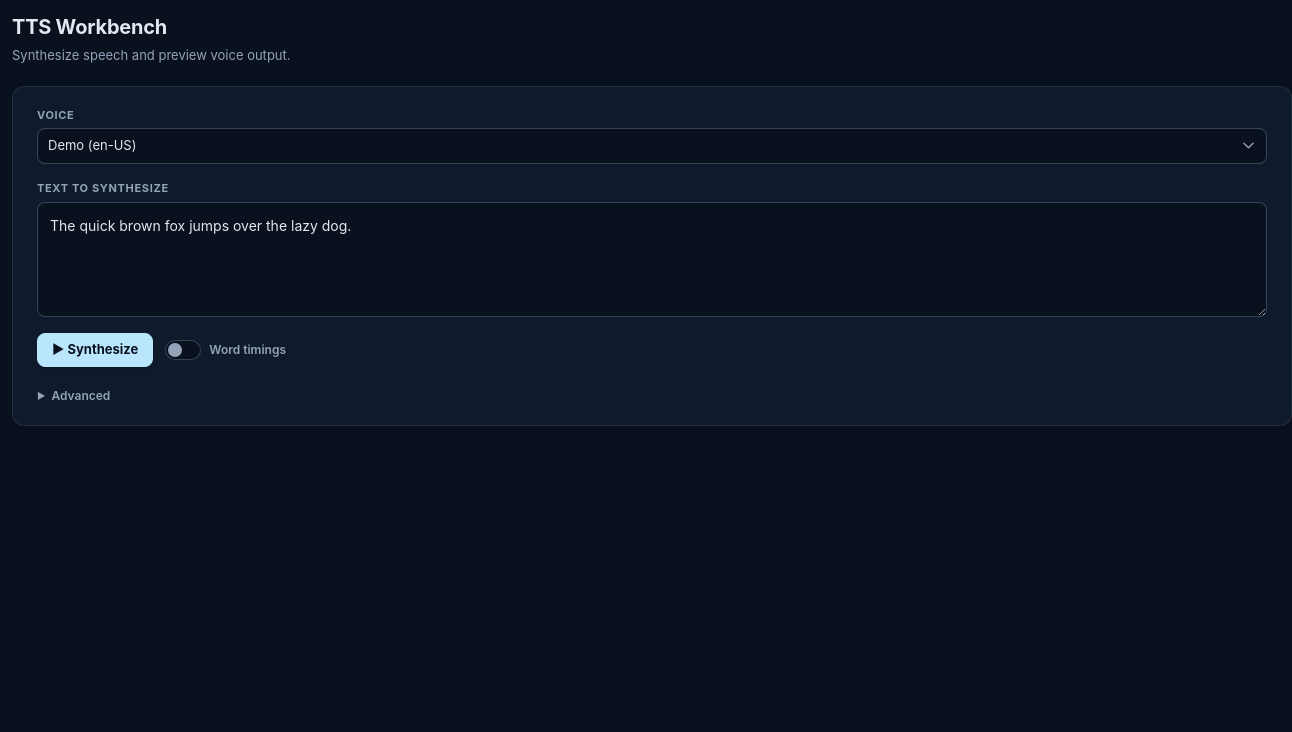
Test: PlaygroundPanel › shows synthesis error when backend returns error
Select "Demo (en-US)" in the dropdown labelled "Voice" at (652, 146), box [37, 128, 1267, 164]
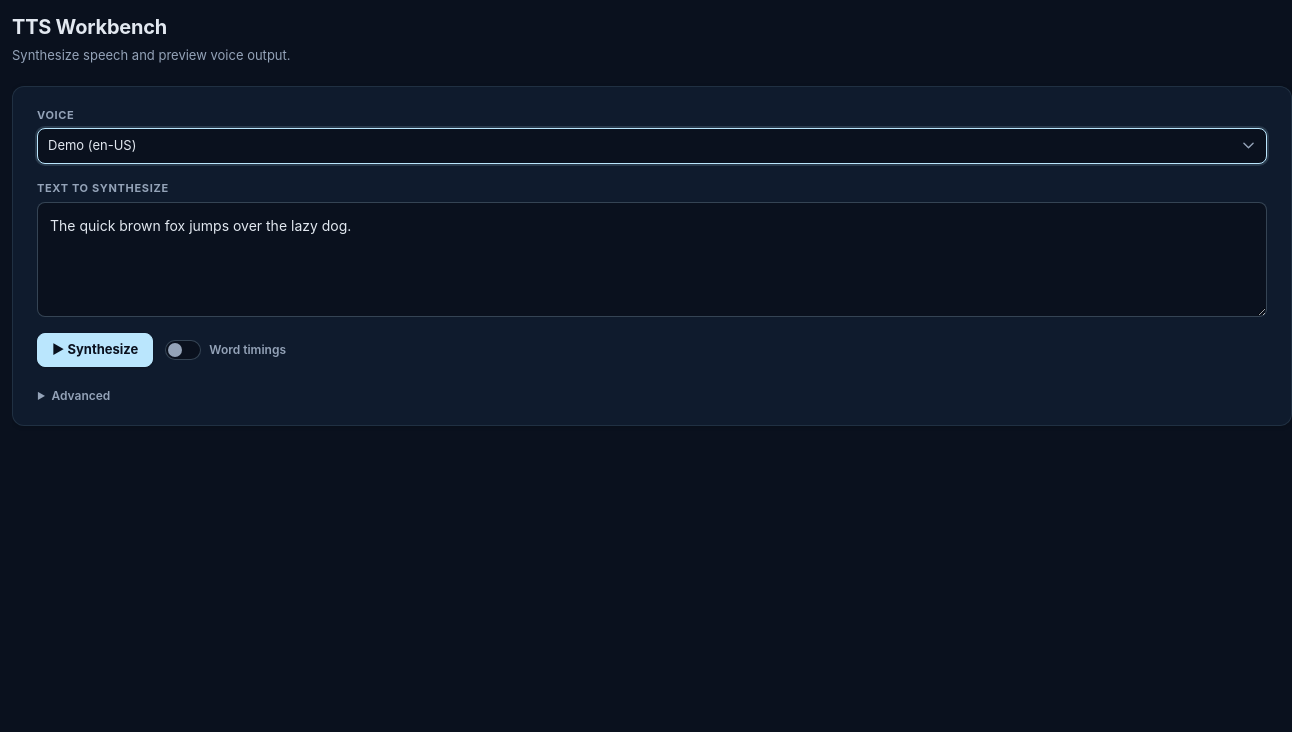
Click the button "▶ Synthesize" at (95, 350), box [37, 333, 153, 367]
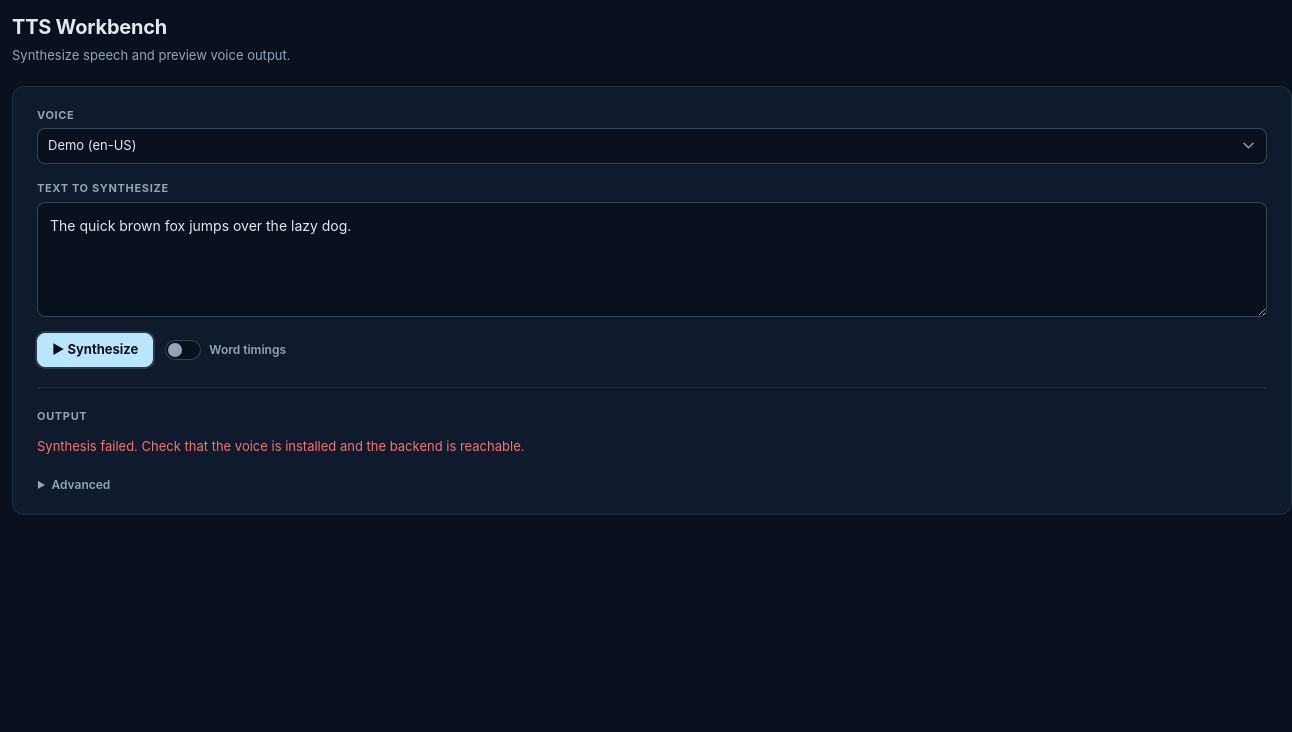
Now the text "Synthesis failed" is shown, box [37, 438, 524, 454]
